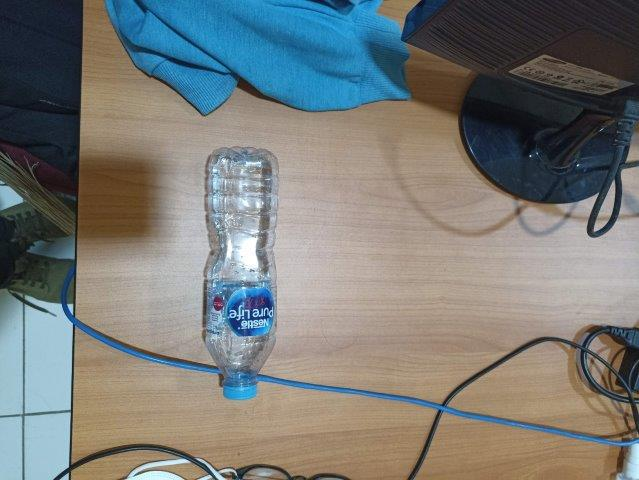botolplastik: (204, 145, 277, 399)
